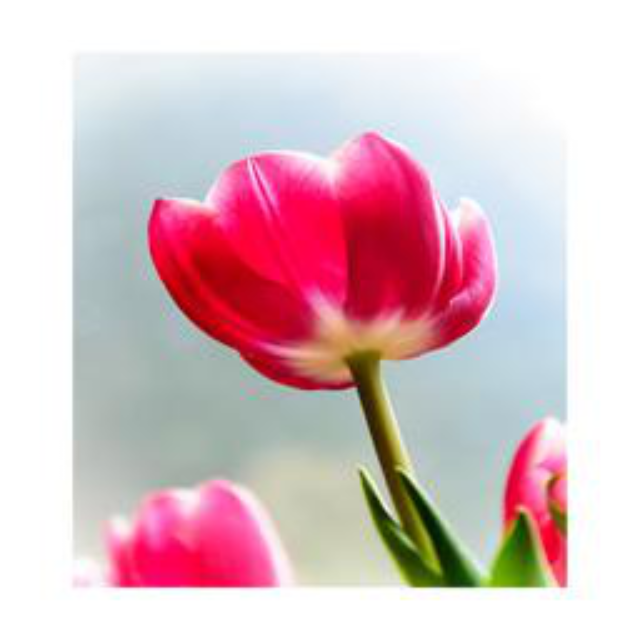tulip: (142, 130, 501, 402), (101, 475, 293, 585)
